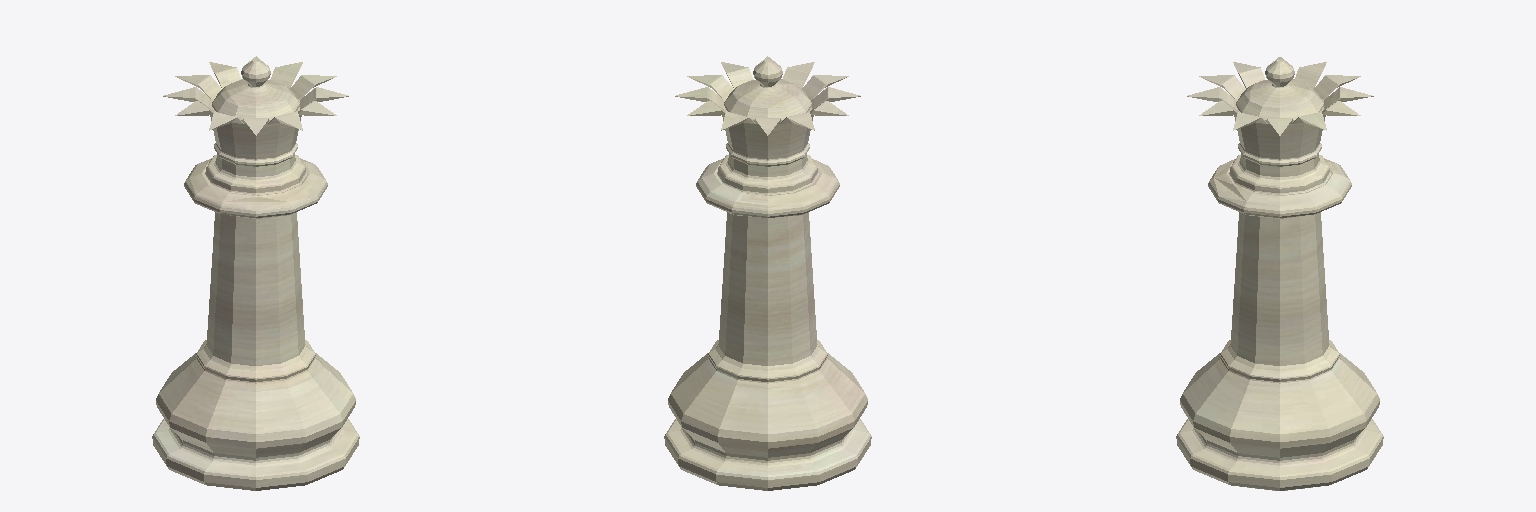
The picture shows the model from 3 angles: view 1: azimuth 30°, elevation 25°; view 2: azimuth 150°, elevation 25°; view 3: azimuth 270°, elevation 25°; orthographic projection.
Parts seen in each view (by area): view 1: mesh01.004; view 2: mesh01.004; view 3: mesh01.004.
Part boxes in pixels (x1,y1,x2,y2): mesh01.004: (152, 56, 359, 490); mesh01.004: (664, 56, 871, 490); mesh01.004: (1176, 57, 1383, 490).
Bounding box in the file's own units: 14.87 × 30.87 × 14.87.
1 materials, 1 textured.